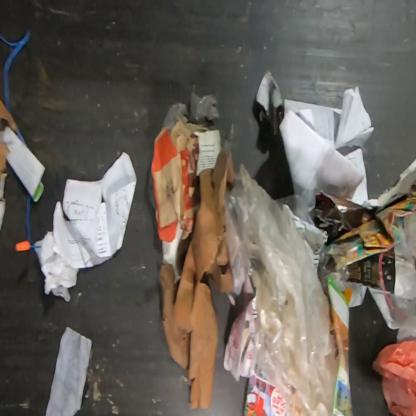cardboard: (158, 149, 234, 411), (307, 177, 415, 272), (151, 116, 215, 244)
soft_plastic: (225, 160, 340, 416), (162, 92, 235, 154), (393, 210, 416, 343)
